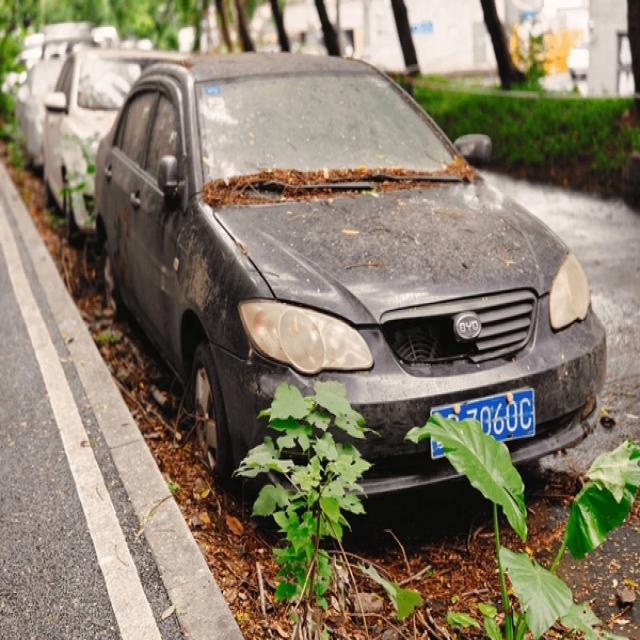byd: (454, 314, 482, 339)
